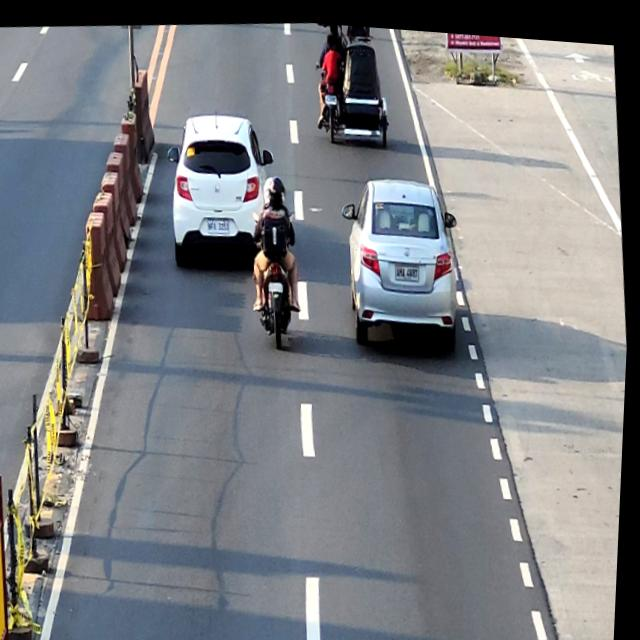Car: (337, 163, 471, 356), (162, 103, 286, 268)
License-Plate: (397, 257, 422, 276), (208, 214, 231, 231), (270, 276, 285, 289), (325, 88, 337, 100)
Motorcycle: (249, 203, 308, 348)
Tricycle: (310, 18, 394, 141)
